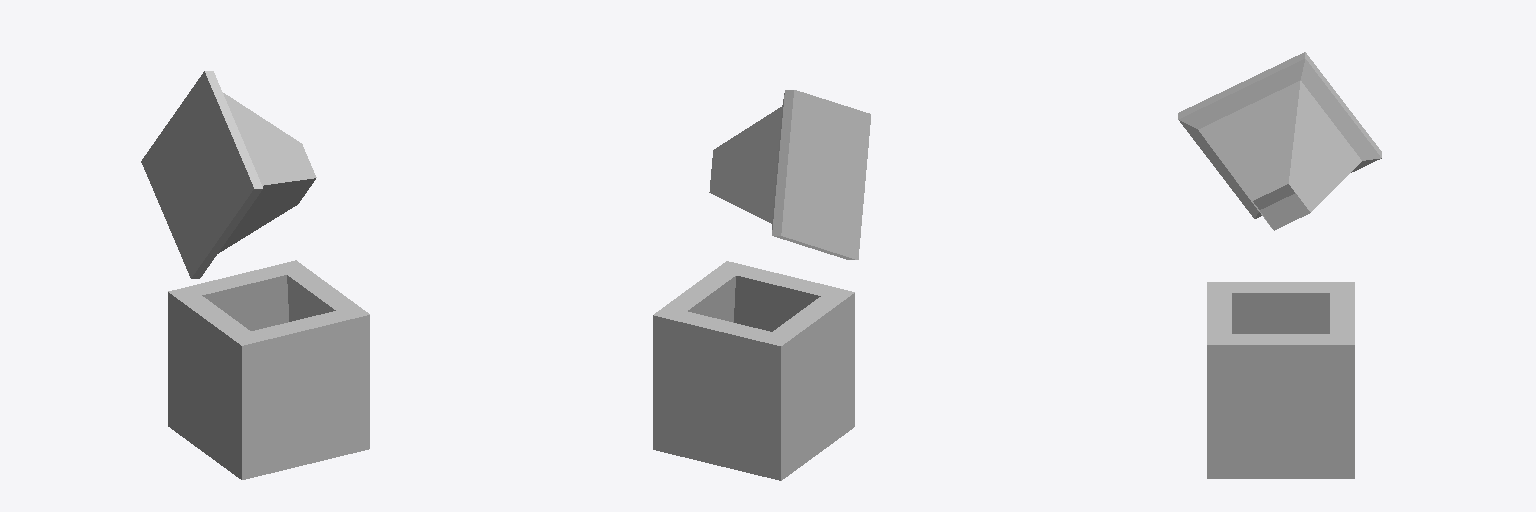
Rendered from AnimatedBox_000121.obj.
3 renders of one model, left to right at view 1: azimuth 30°, elevation 25°; view 2: azimuth 150°, elevation 25°; view 3: azimuth 270°, elevation 25°, orthographic.
Parts seen in each view (by area): view 1: Cube, Cube.001; view 2: Cube, Cube.001; view 3: Cube, Cube.001.
Part boxes in pixels (bbox=[...]): Cube: bbox=[168, 260, 369, 479]; Cube.001: bbox=[141, 71, 316, 278]; Cube: bbox=[653, 261, 854, 480]; Cube.001: bbox=[709, 90, 870, 259]; Cube: bbox=[1207, 282, 1354, 478]; Cube.001: bbox=[1178, 52, 1381, 230].
Bounding box in the file's own units: 2.42 × 5.51 × 2.75.